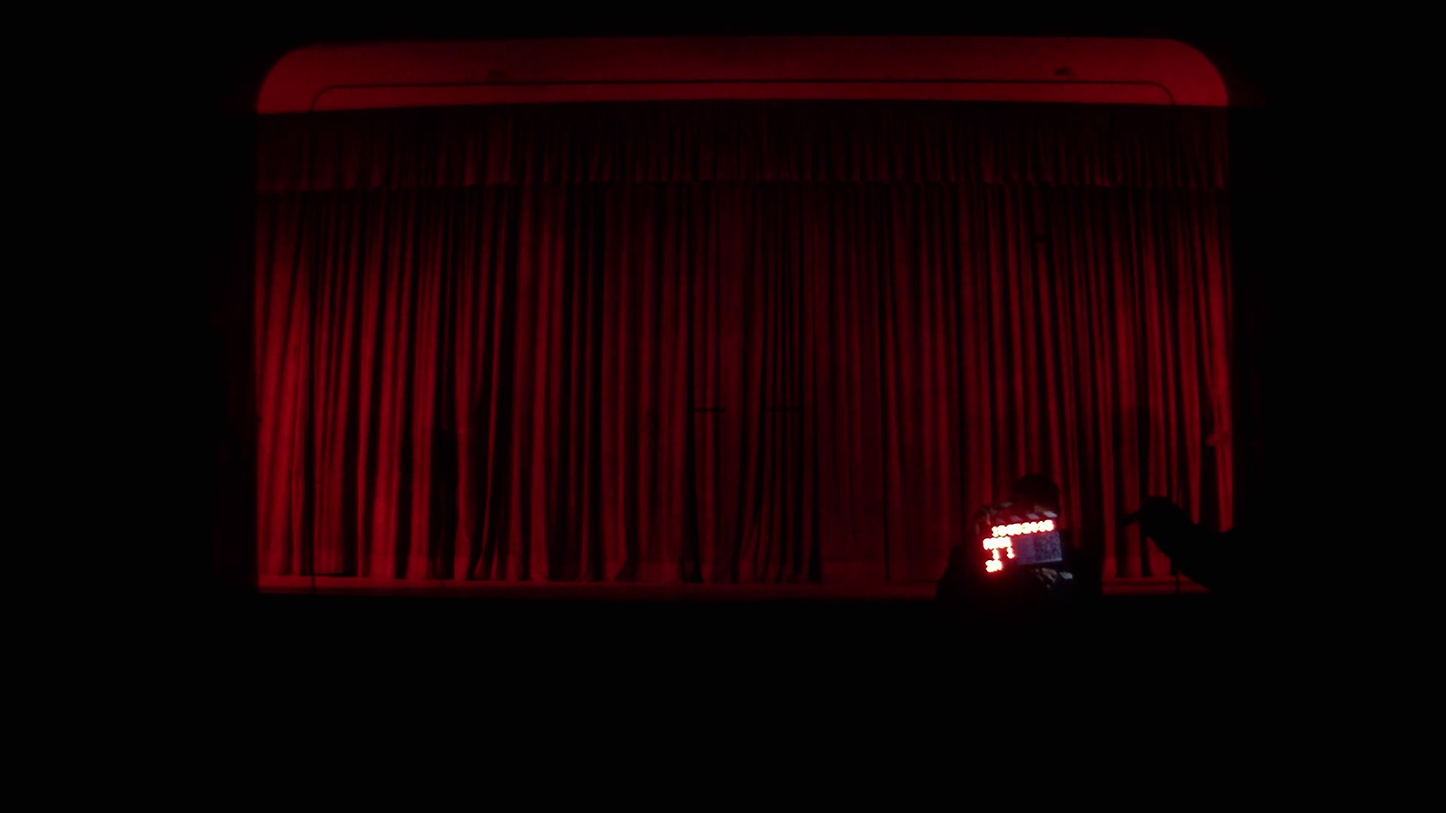ARC-SLATE: (977, 512, 1065, 577)
